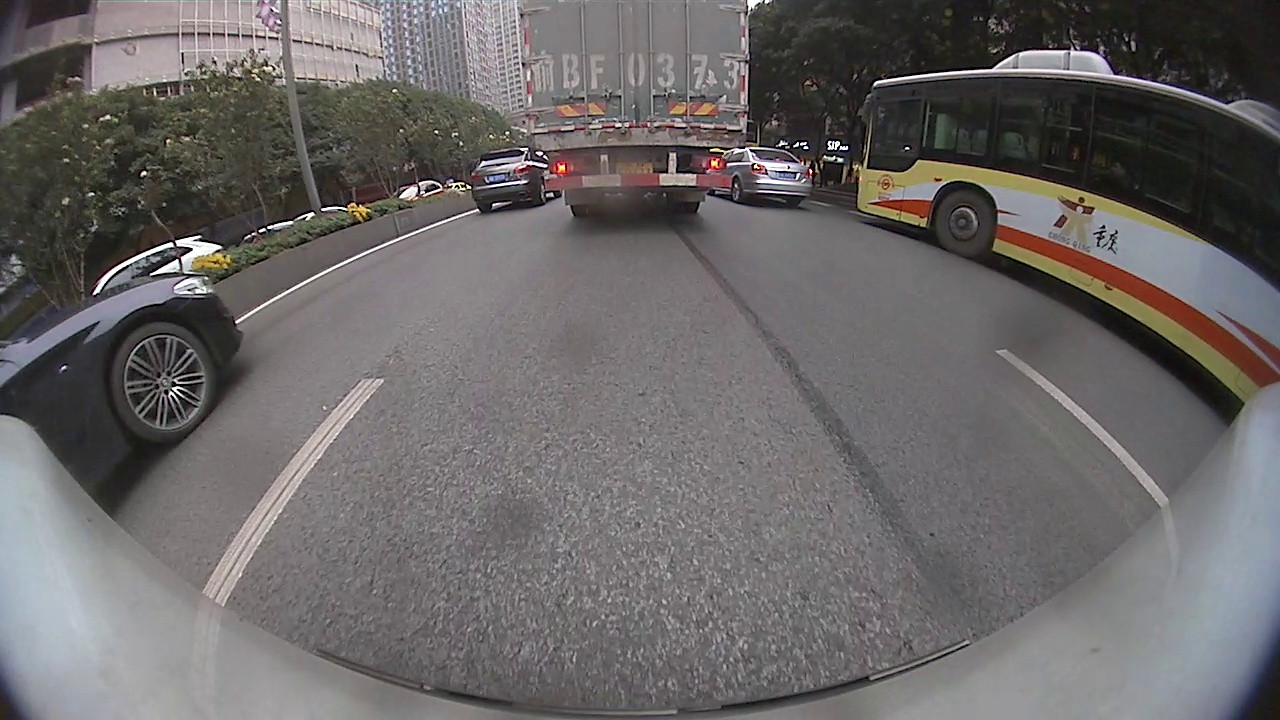bus: (850, 53, 1279, 406)
car: (1, 271, 243, 498), (90, 235, 226, 298), (702, 150, 815, 206), (470, 145, 565, 209)
front: (109, 319, 221, 449), (932, 188, 997, 259)
rear: (730, 176, 744, 204), (536, 180, 548, 207)
truck: (514, 0, 746, 221)
